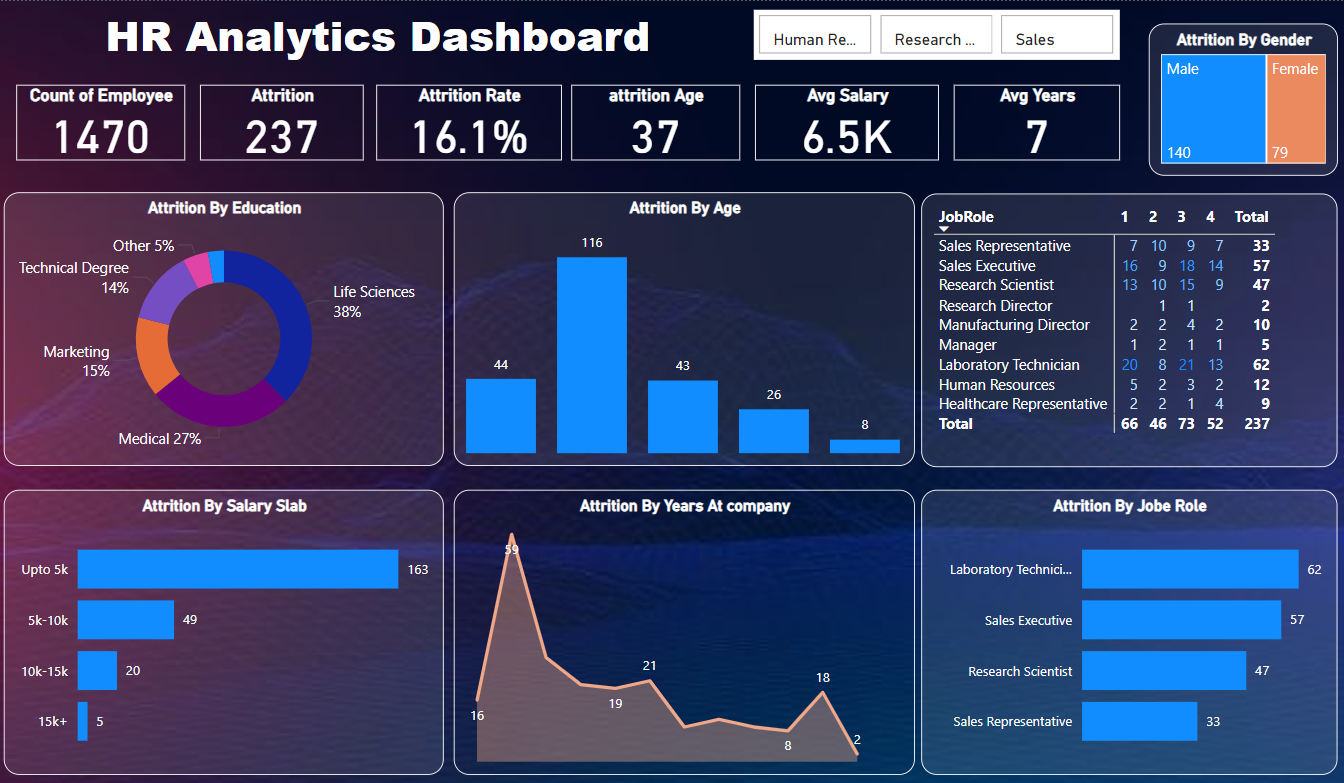

The page's visual inventory and layout, read from the dashboard file:
{"tool":"powerbi","page":{"name":"Page 1","canvas":[1280,720],"ordinal":0},"visuals":[{"type":"card","title":"Count of Employee","fields":{"Values":["CountNonNull(HR_Analytics.EmpID)"]},"box":[14.4,76.6,153.5,68.6],"z":0},{"type":"card","title":"Attrition","fields":{"Values":["Sum(HR_Analytics.AttritionCount)"]},"box":[181.9,76.6,148.8,68.6],"z":1000},{"type":"card","title":"Avg Salary","fields":{"Values":["Avg(HR_Analytics.MonthlyIncome)"]},"box":[686.5,76.6,167.4,68.6],"z":2000},{"type":"card","title":"Attrition Rate","fields":{"Values":["HR_Analytics.AttritionRate"]},"box":[342.4,76.6,168.6,68.6],"z":3000},{"type":"card","title":"attrition Age","fields":{"Values":["Avg(HR_Analytics.Age)"]},"box":[519.1,76.6,153.5,68.6],"z":4000},{"type":"card","title":"Avg Years","fields":{"Values":["Avg(HR_Analytics.YearsAtCompany)"]},"box":[866.8,76.6,151.2,68.6],"z":5000},{"type":"donutChart","title":"Attrition By Education","fields":{"Category":["HR_Analytics.EducationField"],"Y":["Sum(HR_Analytics.AttritionCount)"]},"box":[3,174,400,249],"z":6000},{"type":"columnChart","title":"Attrition By Age","fields":{"Category":["HR_Analytics.AgeGroup","HR_Analytics.EducationField"],"Y":["Sum(HR_Analytics.AttritionCount)"]},"box":[412,174,419,249],"z":7000},{"type":"pivotTable","fields":{"Rows":["HR_Analytics.JobRole"],"Columns":["HR_Analytics.JobSatisfaction"],"Values":["Sum(HR_Analytics.AttritionCount)"]},"box":[838,175,378,249],"z":8000},{"type":"barChart","title":"Attrition By Salary Slab","fields":{"Category":["HR_Analytics.SalarySlab"],"Y":["Sum(HR_Analytics.AttritionCount)"]},"box":[3,444,400,259],"z":9000},{"type":"barChart","title":"Attrition By Jobe Role","fields":{"Category":["HR_Analytics.JobRole"],"Y":["Sum(HR_Analytics.AttritionCount)"]},"box":[838,444,378,259],"z":10000},{"type":"areaChart","title":"Attrition By Years At company","fields":{"Category":["HR_Analytics.YearsAtCompany"],"Y":["Sum(HR_Analytics.AttritionCount)"]},"box":[412,444,419,259],"z":11000},{"type":"treemap","title":"Attrition By Gender","fields":{"Group":["HR_Analytics.Gender"],"Values":["Sum(HR_Analytics.AttritionCount)"]},"box":[1044,21,172,138],"z":12000},{"type":"advancedSlicerVisual","fields":{"Values":["HR_Analytics.Department"]},"box":[685.4,8,332.6,45.3],"z":13000},{"type":"textbox","box":[66.8,-0.1,529.1,62.8],"z":14000}]}

Visuals, with their boxes in screenshot pixels (x1, y1, x2, y2):
"Count of Employee" card: pyautogui.locateOnScreen(33, 96, 198, 170)
"Attrition" card: pyautogui.locateOnScreen(213, 96, 373, 170)
"Avg Salary" card: pyautogui.locateOnScreen(754, 96, 934, 170)
"Attrition Rate" card: pyautogui.locateOnScreen(385, 96, 566, 170)
"attrition Age" card: pyautogui.locateOnScreen(575, 96, 740, 170)
"Avg Years" card: pyautogui.locateOnScreen(948, 96, 1110, 170)
"Attrition By Education" donutChart: pyautogui.locateOnScreen(21, 201, 450, 468)
"Attrition By Age" columnChart: pyautogui.locateOnScreen(460, 201, 910, 468)
pivotTable - HR_Analytics.JobRole x HR_Analytics.JobSatisfaction: pyautogui.locateOnScreen(917, 202, 1323, 469)
"Attrition By Salary Slab" barChart: pyautogui.locateOnScreen(21, 491, 450, 769)
"Attrition By Jobe Role" barChart: pyautogui.locateOnScreen(917, 491, 1323, 769)
"Attrition By Years At company" areaChart: pyautogui.locateOnScreen(460, 491, 910, 769)
"Attrition By Gender" treemap: pyautogui.locateOnScreen(1138, 37, 1323, 185)
advancedSlicerVisual - HR_Analytics.Department: pyautogui.locateOnScreen(753, 23, 1110, 71)
textbox: pyautogui.locateOnScreen(89, 14, 657, 81)
